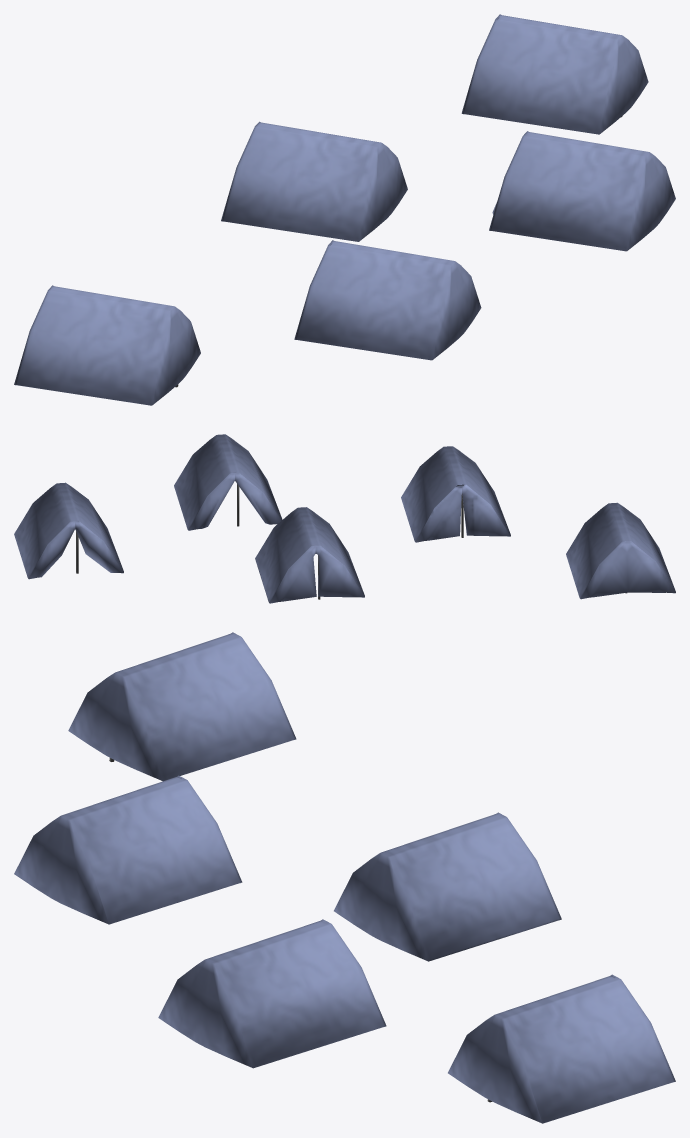
File: Tents_LightBlue.obj
3 renders of one model, top to bottom at view 1: azimuth 30°, elevation 25°; view 2: azimuth 150°, elevation 25°; view 3: azimuth 270°, elevation 25°, orthographic. The views are drawn at different scales.
Visible parts, largest first — view 1: Tent_Base.004_Material, Tent_Base.001_Material, Tent_Base.003_Material, Tent_Base_Material, Tent_Base.002_Material; view 2: Tent_Base.004_Material, Tent_Base.002_Material, Tent_Base.003_Material, Tent_Base_Material, Tent_Base.001_Material; view 3: Tent_Base.001_Material, Tent_Base_Material, Tent_Base.003_Material, Tent_Base.002_Material, Tent_Base.004_Material.
Part boxes in pixels (x1,y1,x2,y2): Tent_Base.004_Material: (14,285,200,405); Tent_Base.001_Material: (489,131,675,251); Tent_Base.003_Material: (294,240,481,360); Tent_Base_Material: (461,14,648,134); Tent_Base.002_Material: (221,121,407,241); Tent_Base.004_Material: (566,502,675,599); Tent_Base.002_Material: (255,507,364,603); Tent_Base.003_Material: (401,446,510,542); Tent_Base_Material: (14,482,123,579); Tent_Base.001_Material: (174,434,282,530); Tent_Base.001_Material: (158,919,386,1068); Tent_Base_Material: (448,974,675,1123); Tent_Base.003_Material: (14,775,242,924); Tent_Base.002_Material: (334,812,561,961); Tent_Base.004_Material: (68,632,296,781).
Size of the model in its own units: 13.56 by 1.26 by 8.67.
